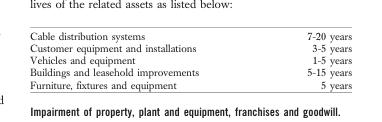table: (29, 28, 351, 90)
table column: (29, 28, 252, 90), (252, 28, 351, 90)
table row: (29, 28, 351, 41), (29, 65, 351, 78), (29, 41, 351, 53), (29, 53, 351, 65), (29, 78, 351, 90)
